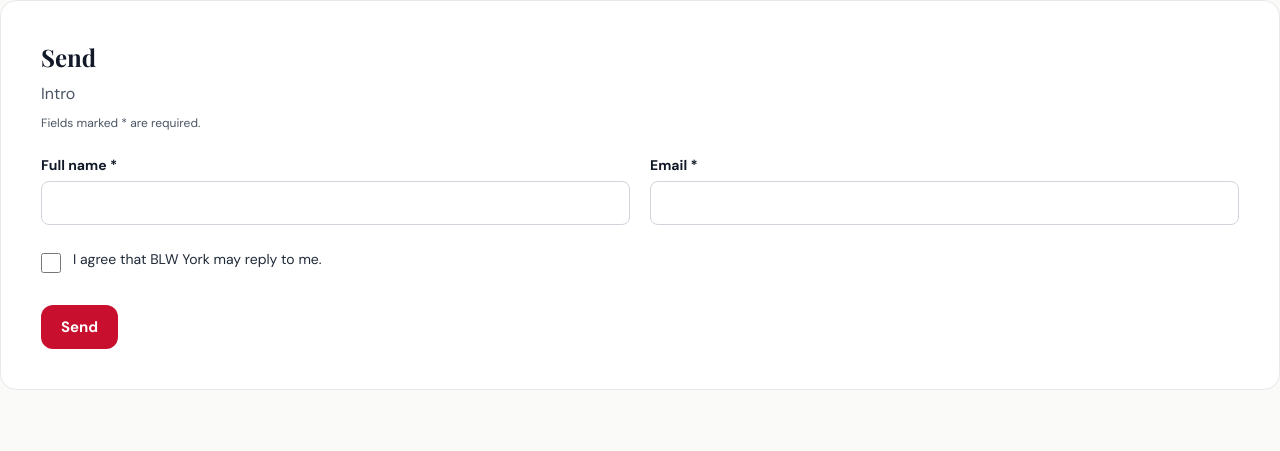
Test: public form submission › shows the database refusal to the visitor and does not confirm
The width and height of the screenshot is (1280, 451).
In the field labelled "Full name *": (336, 203) left=41, top=181, right=630, bottom=225, type "Ada"
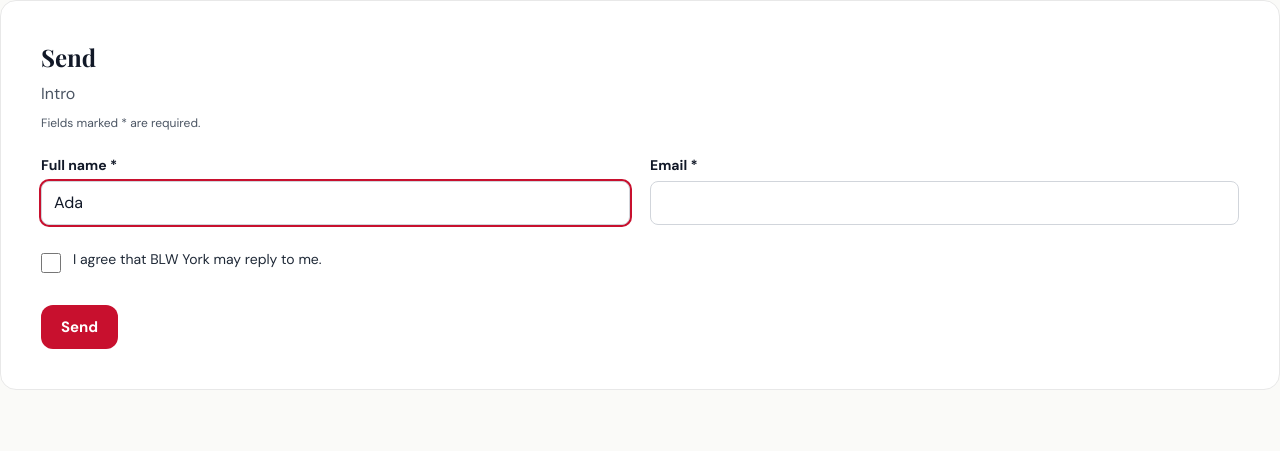
In the field labelled "Email *": (944, 203) left=650, top=181, right=1239, bottom=225, type "ada@example.org"
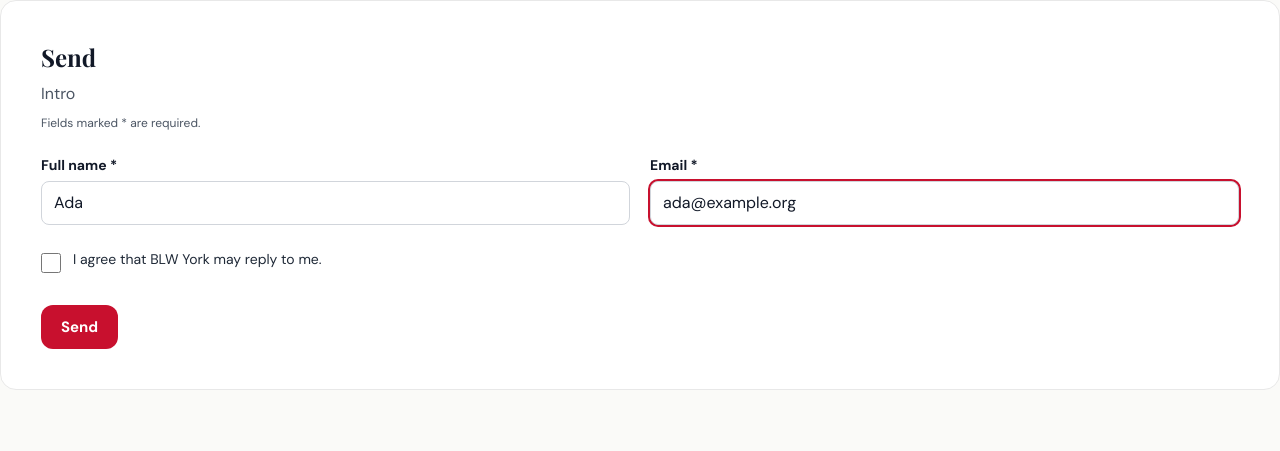
Click the checkbox: (51, 263) left=41, top=253, right=61, bottom=273
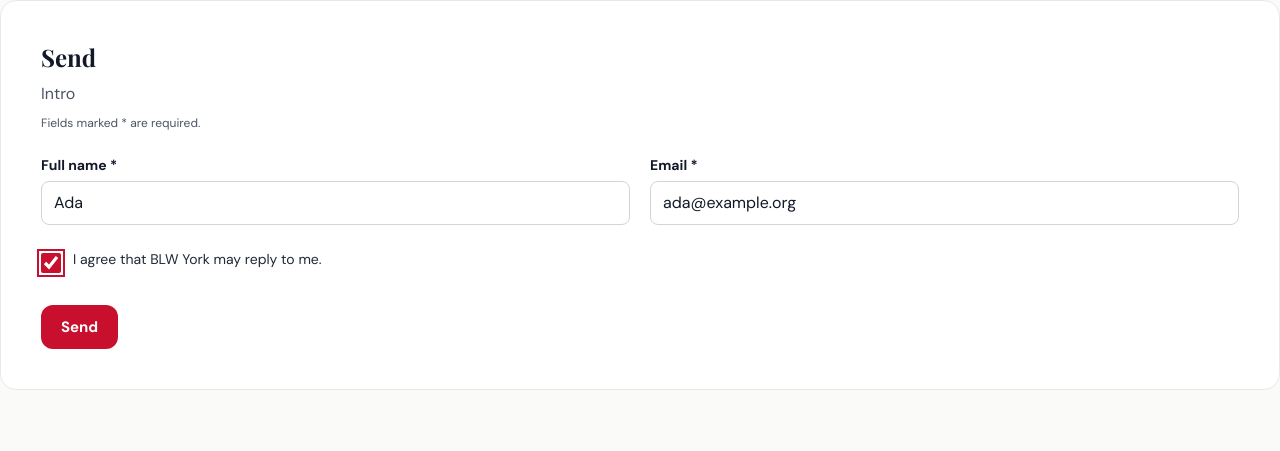
Click the button "Send": (80, 327) left=41, top=305, right=118, bottom=349
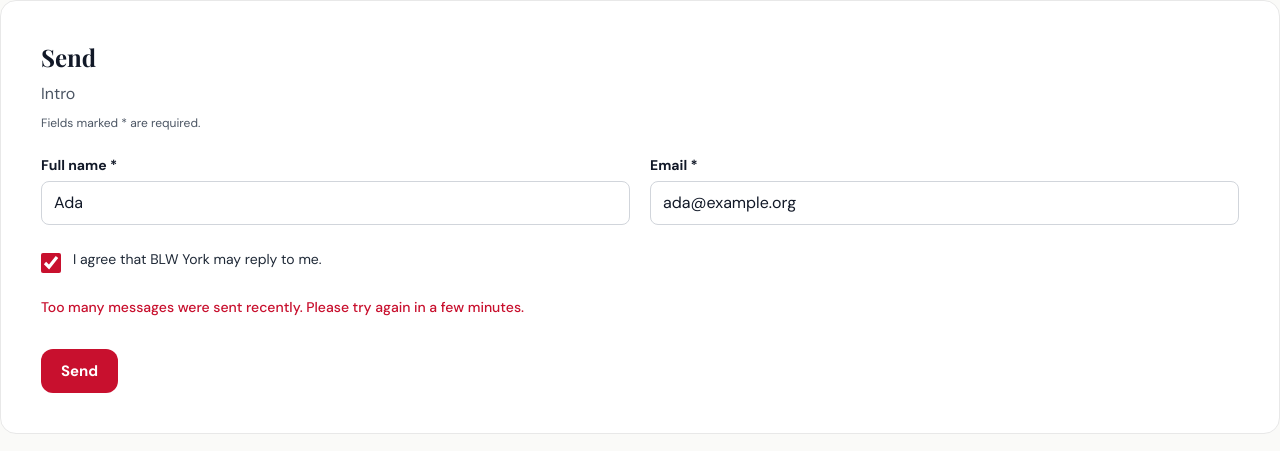
Check: the message shows "Too many messages", box left=41, top=298, right=524, bottom=316
